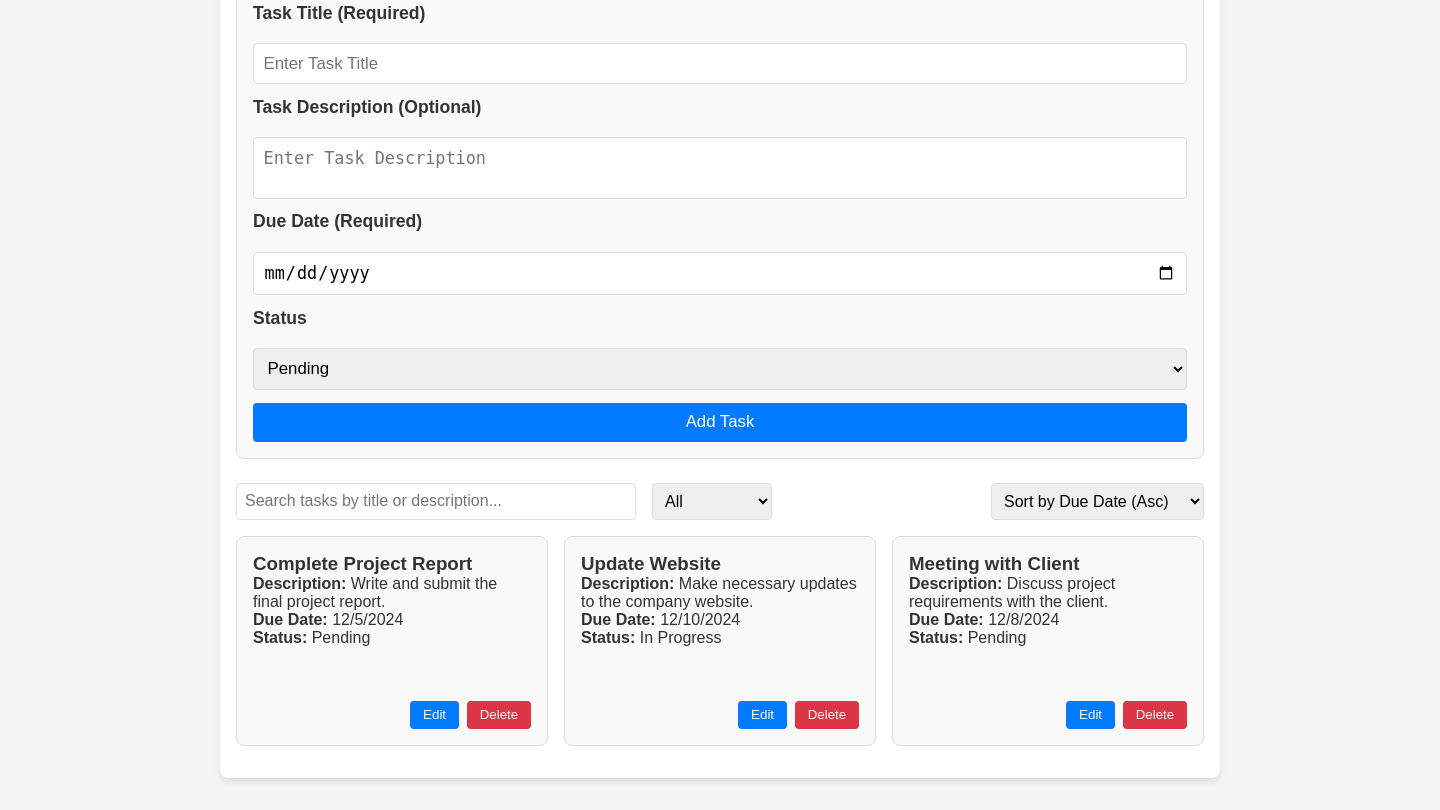
Test: App Component › closes the modal on cancel
(page scrolled)
Click the button "Delete" below "12/5/2024": (499, 715) [467,701,531,729]
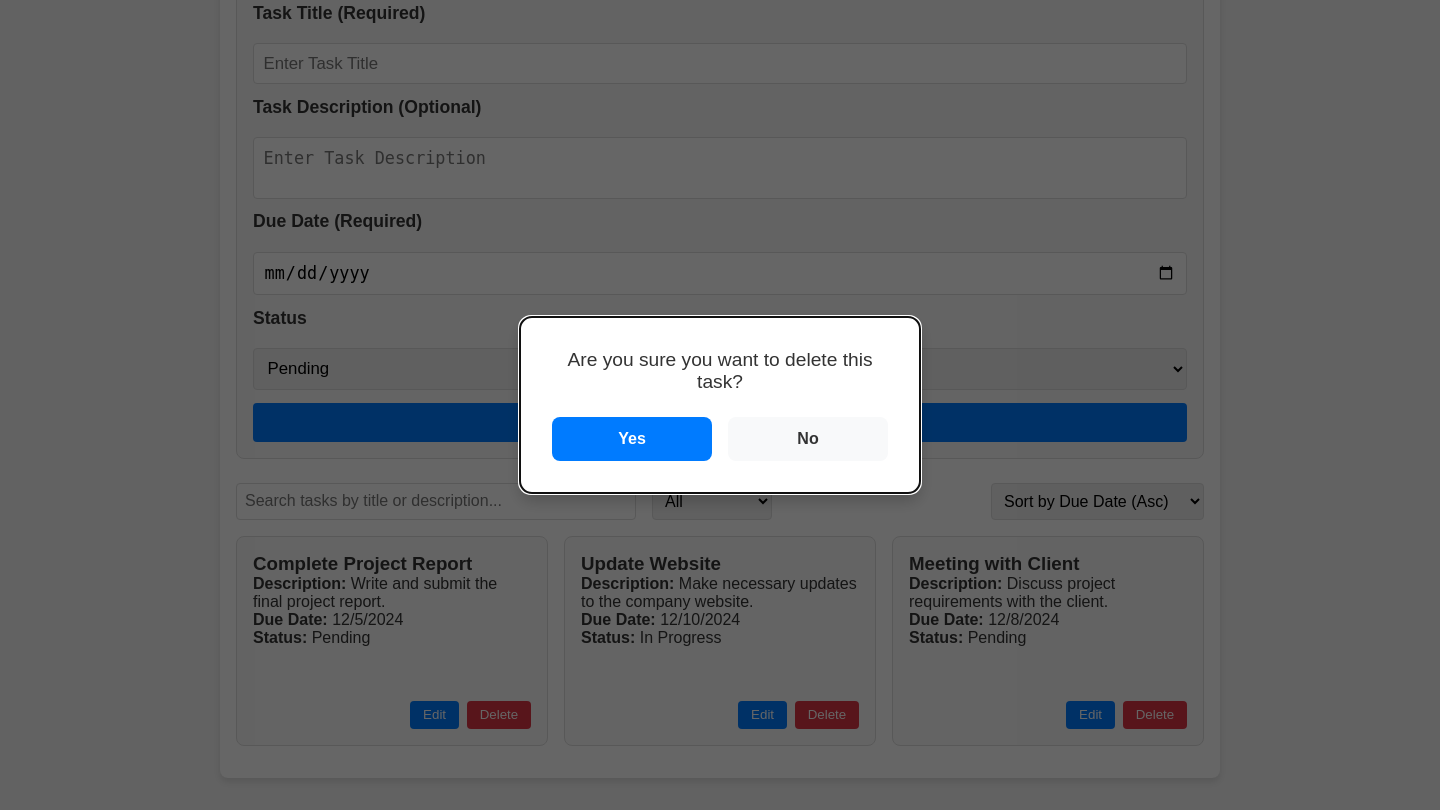
Click the button "No": (808, 439) [728,417,888,461]
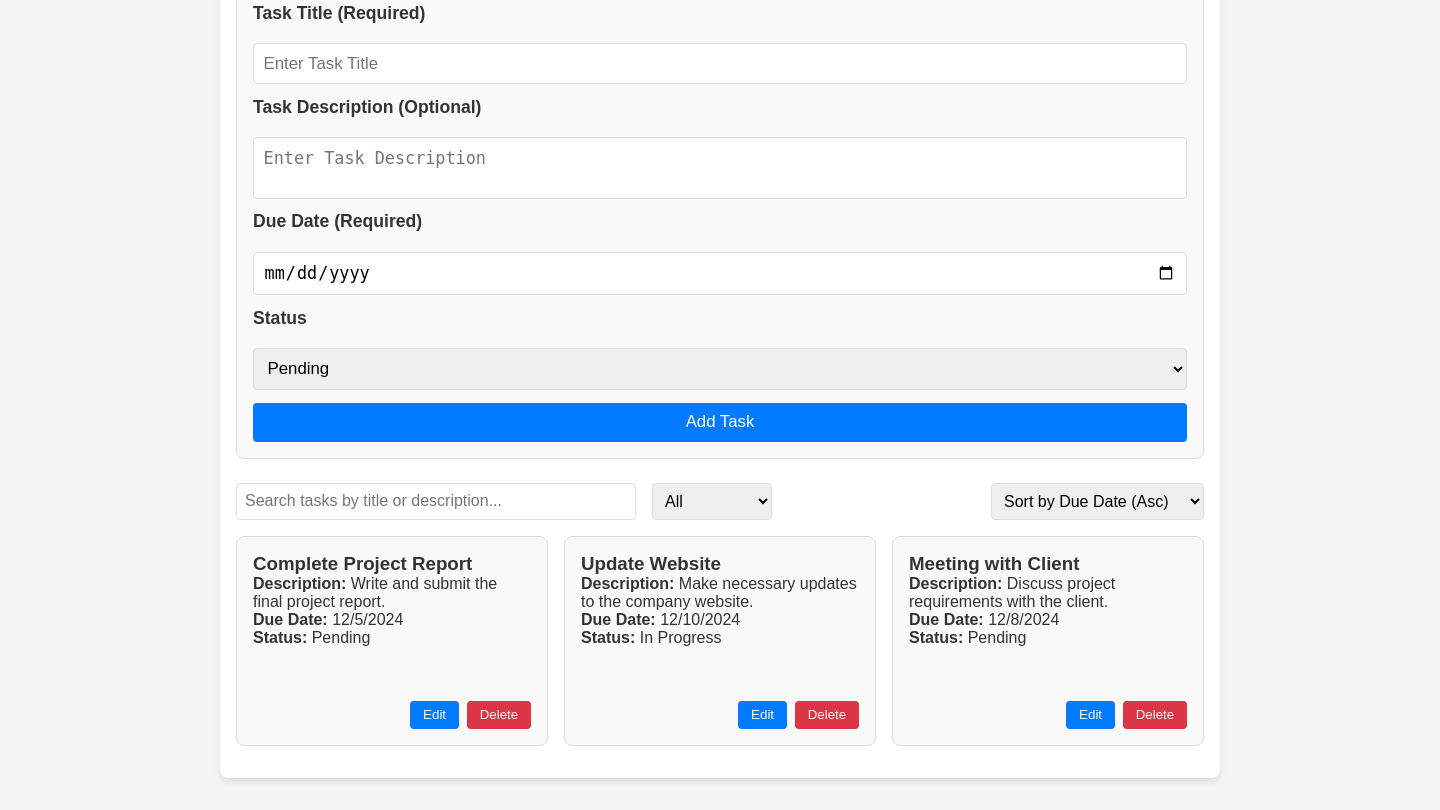
Now the text "Are you sure you want to delete this task?" is gone
